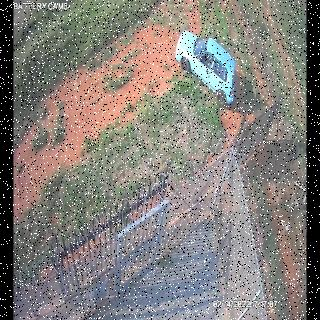car: (174, 29, 236, 106)
